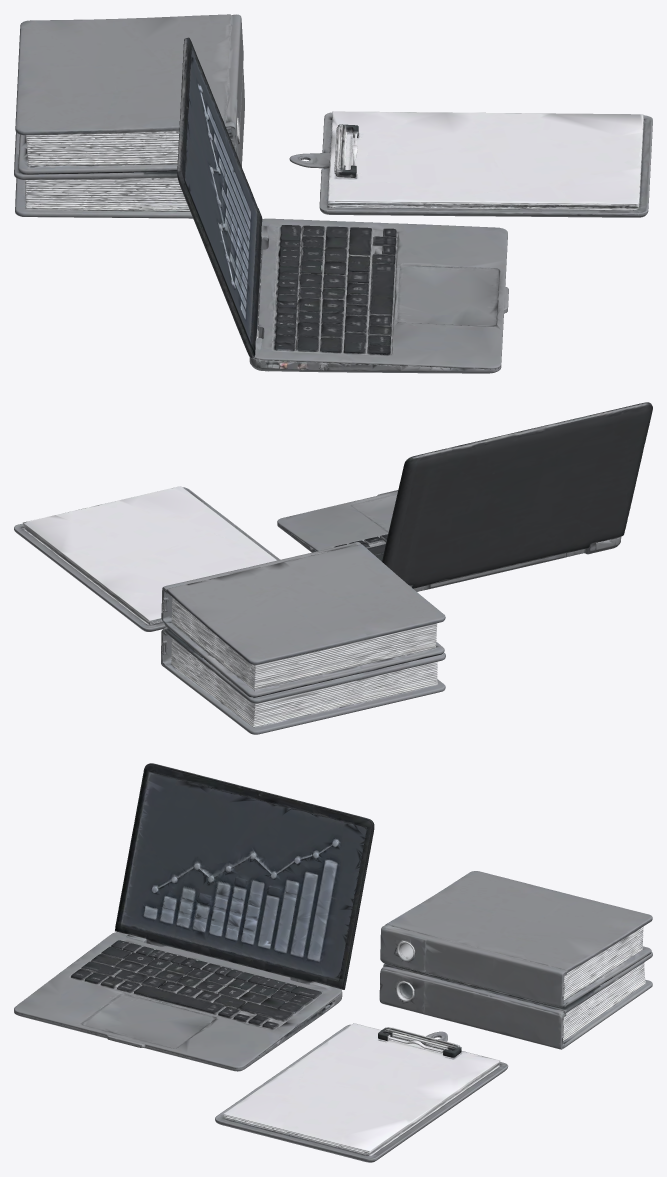
File: report.glb
3 renders of one model, top to bottom at view 1: azimuth 30°, elevation 25°; view 2: azimuth 150°, elevation 25°; view 3: azimuth 270°, elevation 25°, orthographic. The views are drawn at different scales.
Visible parts, largest first — view 1: tripo_node_04810c68-0574-492a-8624-0b65baddeae9; view 2: tripo_node_04810c68-0574-492a-8624-0b65baddeae9; view 3: tripo_node_04810c68-0574-492a-8624-0b65baddeae9.
Boxes of the visible parts, bbox=[...] form: tripo_node_04810c68-0574-492a-8624-0b65baddeae9: bbox=[14, 14, 652, 373]; tripo_node_04810c68-0574-492a-8624-0b65baddeae9: bbox=[14, 402, 652, 734]; tripo_node_04810c68-0574-492a-8624-0b65baddeae9: bbox=[14, 763, 652, 1162].
Size of the model in its own units: 35596 by 11354 by 39875.
1 material, 1 textured.
